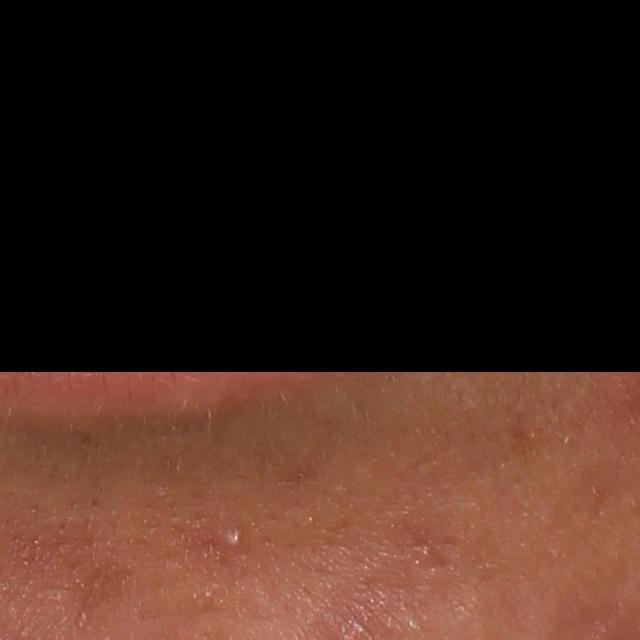pustule: (210, 523, 250, 553)
